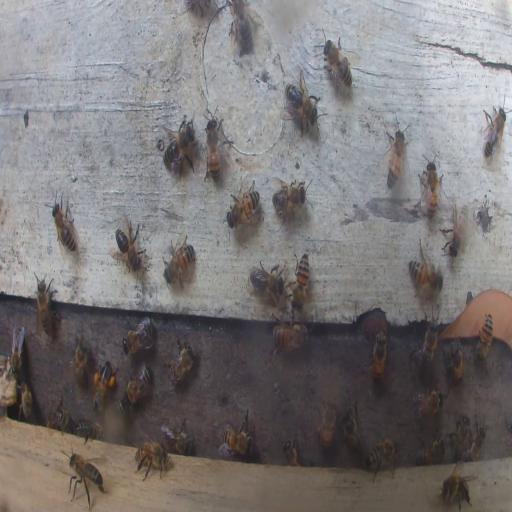nonpollenbee: (282, 72, 323, 132), (158, 115, 198, 175), (66, 448, 104, 504), (411, 312, 440, 378), (163, 233, 196, 290), (322, 34, 354, 90), (112, 216, 143, 272), (446, 199, 475, 258), (408, 246, 442, 296), (34, 274, 60, 337), (50, 194, 76, 254), (366, 436, 399, 483), (480, 106, 507, 163), (165, 337, 195, 387), (248, 260, 284, 301), (134, 438, 169, 480), (272, 178, 309, 216), (419, 158, 442, 218), (439, 469, 473, 509), (220, 419, 254, 457), (204, 114, 222, 184), (386, 126, 406, 189), (122, 317, 155, 354), (229, 188, 259, 228), (340, 402, 363, 453), (412, 386, 444, 420), (162, 419, 193, 454), (292, 250, 310, 310), (231, 1, 251, 51), (271, 324, 309, 350), (442, 340, 464, 384), (125, 366, 151, 403), (460, 426, 486, 461), (476, 314, 494, 362), (370, 332, 387, 382), (319, 399, 336, 449), (71, 339, 89, 386), (48, 398, 72, 432), (9, 324, 24, 378), (415, 438, 445, 464), (76, 419, 102, 443), (19, 379, 33, 421), (458, 417, 472, 452), (283, 438, 299, 466)
pollenbee: (92, 359, 117, 413)
